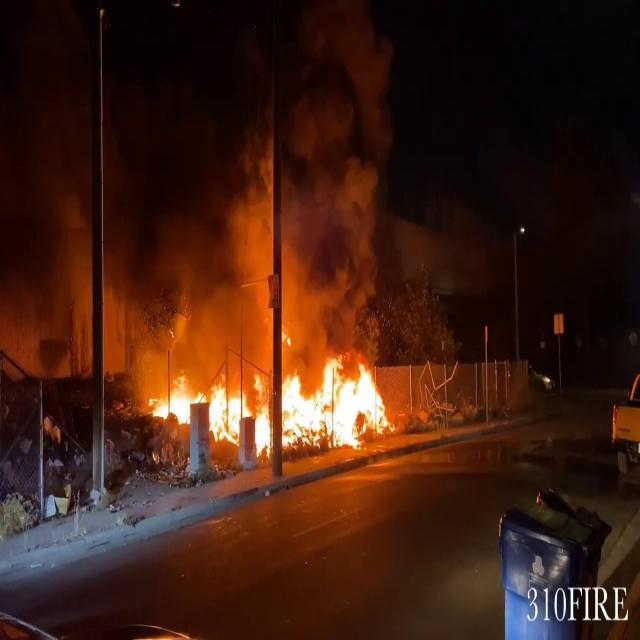Fire: (146, 350, 394, 454)
Smoke: (0, 26, 398, 362)
